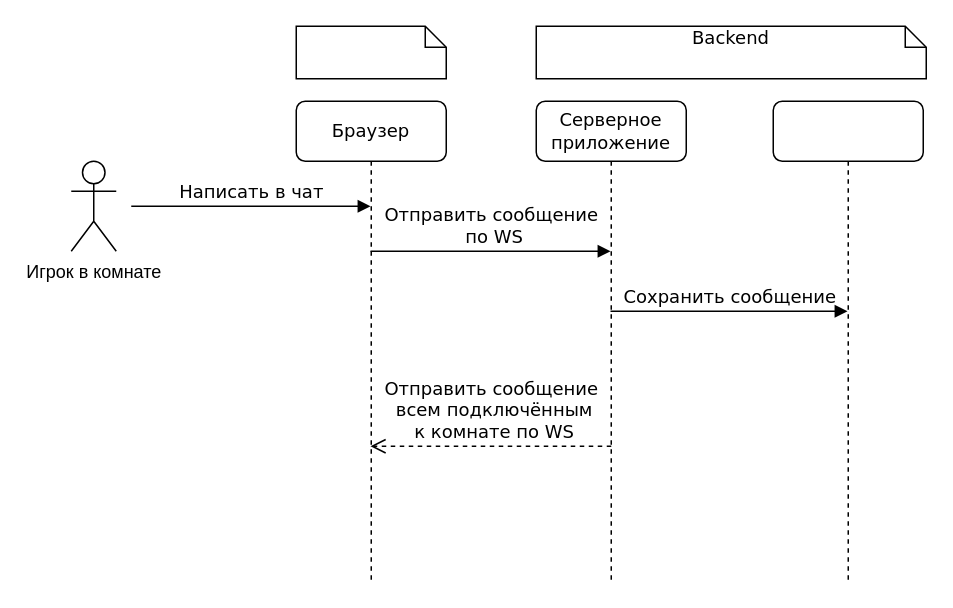
Some shapes in this 953 by 608 pixel diagram are drawn without their labels. The shapes that lost their labels are listed below. From the top down, each one's centre as x and y in pixels, then its label:
At point (370, 52): "Frontend".
At point (847, 340): "СУБД".
